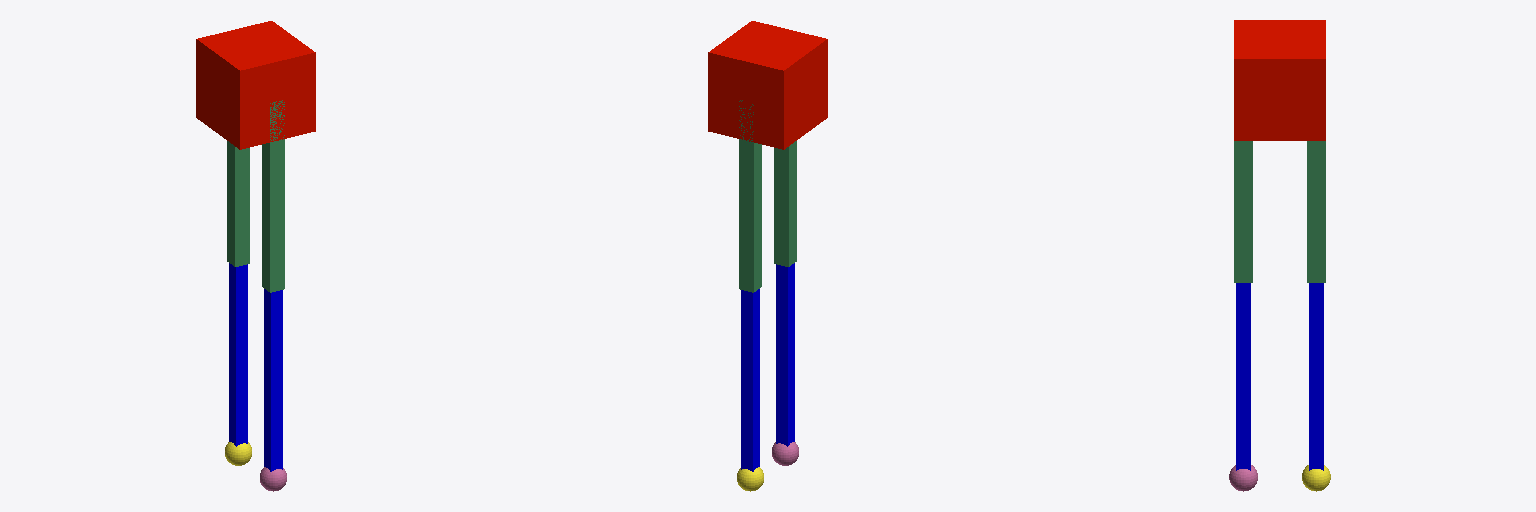
URDF robot description (MassSpringBiped):
<?xml version="1.0"?>
<robot name="MassSpringBiped">
  <material name="green">
    <color rgba=".3 .6 .4 1" />
  </material>
  <material name="red">
    <color rgba=".9 .1 0 1" />
  </material>
  <material name="blue">
    <color rgba="0 0 1 1" />
  </material>
  <material name="black">
    <color rgba="1 1 1 1" />
  </material>

  <!-- <link name="base"/> -->

  <link name="torso">
    <inertial> 
      <origin xyz="0 0 0" rpy="0 0 0" />
      <mass value="1" />
      <inertia ixx=".01" ixy="0" ixz="0" iyy=".01" iyz="0" izz=".01"/> 
    </inertial>
    <visual>
      <origin xyz="0 0 0"/>
      <geometry>
        <box size="0.125 0.125 0.125" />
      </geometry>
      <material name="red" />
    </visual> 
    <collision>
      <origin xyz="0 0 0"/>
      <geometry>
        <box size="0.125 0.125 0.125" />
      </geometry>
    </collision>
  </link>


  <link name="l_hip">
    <inertial> 
      <origin xyz="0 0 0" rpy="0 0 0" />
      <mass value="0.0001" />
      <inertia ixx=".00001" ixy="0" ixz="0" iyy=".00001" iyz="0" izz=".00001"/> 
    </inertial>
    <visual>
      <origin xyz="0 0 0" rpy="0 0 0" />
      <geometry>
        <box size="0.01 0.01 0.01" />
      </geometry>
      <material name="black" />
    </visual> 
  </link>


  <link name="l_upper_leg">
    <inertial> 
      <origin xyz="0 0 -0.15" rpy="0 0 0" />
      <mass value="0.01" />
      <inertia ixx=".001" ixy="0" ixz="0" iyy=".001" iyz="0" izz=".001"/> 
    </inertial>
    <visual>
      <origin xyz="0 0 -0.15" rpy="0 0 0" />
      <geometry>
        <box size="0.025 0.025 0.3" />
      </geometry>
      <material name="green" />
    </visual> 
  </link>


  <link name="l_lower_leg">
    <inertial> 
      <origin xyz="0 0 -0.15" rpy="0 0 0" />
      <mass value="0.01" />
      <inertia ixx=".001" ixy="0" ixz="0" iyy=".001" iyz="0" izz=".001"/> 
    </inertial>
    <visual>
      <origin xyz="0 0 -0.15" rpy="0 0 0" />
      <geometry>
        <box size="0.02 0.02 0.3" />
      </geometry>
      <material name="blue" />
    </visual> 
    <collision group="foot">
      <origin rpy="0 0 0" xyz="0 0 -0.30"/>
      <geometry>
        <sphere radius="0.0"/>
      </geometry>
    </collision>
    <visual group="foot">
      <origin rpy="0 0 0" xyz="0 0 -0.30"/>
      <geometry>
        <sphere radius="0.02"/>
      </geometry>
    </visual>
  </link>


  <link name="r_hip">
    <inertial> 
      <origin xyz="0 0 0" rpy="0 0 0" />
      <mass value="0.0001" />
      <inertia ixx=".00001" ixy="0" ixz="0" iyy=".00001" iyz="0" izz=".00001"/> 
    </inertial>
    <visual>
      <origin xyz="0 0 0" rpy="0 0 0" />
      <geometry>
        <box size="0.01 0.01 0.01" />
      </geometry>
      <material name="black" />
    </visual> 
  </link>

  <link name="r_upper_leg">
    <inertial> 
      <origin xyz="0 0 -0.15" rpy="0 0 0" />
      <mass value="0.01" />
      <inertia ixx=".001" ixy="0" ixz="0" iyy=".001" iyz="0" izz=".001"/> 
    </inertial>
    <visual>
      <origin xyz="0 0 -0.15" rpy="0 0 0" />
      <geometry>
        <box size="0.025 0.025 0.3" />
      </geometry>
      <material name="green" />
    </visual> 
  </link>


  <link name="r_lower_leg">
    <inertial> 
      <origin xyz="0 0 -0.15" rpy="0 0 0" />
      <mass value="0.01" />
      <inertia ixx=".001" ixy="0" ixz="0" iyy=".001" iyz="0" izz=".001"/> 
    </inertial>
    <visual>
      <origin xyz="0 0 -0.15" rpy="0 0 0" />
      <geometry>
        <box size="0.02 0.02 0.3" />
      </geometry>
      <material name="blue" />
    </visual> 
    <collision group="foot">
      <origin rpy="0 0 0" xyz="0 0 -0.30"/>
      <geometry>
        <sphere radius="0.0"/>
      </geometry>
    </collision>
    <visual group="foot">
      <origin rpy="0 0 0" xyz="0 0 -0.30"/>
      <geometry>
        <sphere radius="0.02"/>
      </geometry>
    </visual>
  </link>


  <joint name="l_hip_x" type="revolute">
    <origin rpy="0 0 0" xyz="0 0.05 0"/>
    <axis xyz="1 0 0"/>
    <parent link="torso"/>
    <child link="l_hip"/>
    <dynamics damping="0.1" friction="0"/>
    <limit effort="275" lower="-1.57" upper="1.57" velocity="12"/>
  </joint>
  <joint name="l_hip_y" type="revolute">
    <origin rpy="0 0 0" xyz="0 0 0"/>
    <axis xyz="0 1 0"/>
    <parent link="l_hip"/>
    <child link="l_upper_leg"/>
    <dynamics damping="0.1" friction="0"/>
    <limit effort="275" lower="-1.57" upper="1.57" velocity="12"/>
  </joint>
  <joint name="r_hip_x" type="revolute">
    <origin rpy="0 0 0" xyz="0 -0.05 0"/>
    <axis xyz="1 0 0"/>
    <parent link="torso"/>
    <child link="r_hip"/>
    <dynamics damping="0.1" friction="0"/>
    <limit effort="275" lower="-1.57" upper="1.57" velocity="12"/>
  </joint>
  <joint name="r_hip_y" type="revolute">
    <origin rpy="0 0 0" xyz="0 0 0"/>
    <axis xyz="0 1 0"/>
    <parent link="r_hip"/>
    <child link="r_upper_leg"/>
    <dynamics damping="0.1" friction="0"/>
    <limit effort="275" lower="-1.57" upper="1.57" velocity="12"/>
  </joint>
  <joint name="l_leg_spring_joint" type="prismatic">
    <origin rpy="0 0 0" xyz="0 0 -0.3"/>
    <parent link="l_upper_leg"/>
    <child link="l_lower_leg" />
    <axis xyz="0 0 1" />
    <dynamics damping="0.1" friction="0"/>
    <limit lower="-0.25" upper="0.25"/>
  </joint>
  <joint name="r_leg_spring_joint" type="prismatic">
    <origin rpy="0 0 0" xyz="0 0 -0.3"/>
    <parent link="r_upper_leg"/>
    <child link="r_lower_leg" />
    <axis xyz="0 0 1" />
    <dynamics damping="0.1" friction="0"/>
    <limit lower="-0.25" upper="0.25"/>
  </joint>
  <!-- 
  <force_element name="l_leg_spring">
    <linear_spring_damper stiffness="100" damping="20">
      <link1 link="l_upper_leg" xyz="0 0 -0.15" />
      <link2 link="l_lower_leg" xyz="0 0 0.15" />
    </linear_spring_damper>
  </force_element>
  <force_element name="r_leg_spring">
    <linear_spring_damper stiffness="100" damping="20">
      <link1 link="r_upper_leg" xyz="0 0 -0.15" />
      <link2 link="r_lower_leg" xyz="0 0 0.15" />
    </linear_spring_damper>
  </force_element>
 -->
  <transmission type="SimpleTransmission" name="l_hip_x_transmission">
    <actuator name="l_hip_x" />
    <joint name="l_hip_x" />
    <mechanicalReduction>1</mechanicalReduction>
  </transmission>
  <transmission type="SimpleTransmission" name="l_hip_y_transmission">
    <actuator name="l_hip_y" />
    <joint name="l_hip_y" />
    <mechanicalReduction>1</mechanicalReduction>
  </transmission>
  <transmission type="SimpleTransmission" name="l_spring_transmission">
    <actuator name="l_spring" />
    <joint name="l_leg_spring_joint" />
    <mechanicalReduction>1</mechanicalReduction>
  </transmission>
  <transmission type="SimpleTransmission" name="r_hip_x_transmission">
    <actuator name="r_hip_x" />
    <joint name="r_hip_x" />
    <mechanicalReduction>1</mechanicalReduction>
  </transmission>
  <transmission type="SimpleTransmission" name="r_hip_y_transmission">
    <actuator name="r_hip_y" />
    <joint name="r_hip_y" />
    <mechanicalReduction>1</mechanicalReduction>
  </transmission>
  <transmission type="SimpleTransmission" name="r_spring_transmission">
    <actuator name="r_spring" />
    <joint name="r_leg_spring_joint" />
    <mechanicalReduction>1</mechanicalReduction>
  </transmission>
</robot>

--- Facts derived from the render (not from the file) ---
3 views of the same robot in one strip: view 1: azimuth 30°, elevation 25°; view 2: azimuth 150°, elevation 25°; view 3: azimuth 270°, elevation 25° (orthographic).
Model MassSpringBiped with 7 links and 6 joints (4 revolute, 2 prismatic), rooted at torso, posed every joint at zero.
Links seen in each view (by area): view 1: torso, l_lower_leg, r_lower_leg, r_upper_leg, l_upper_leg; view 2: torso, r_lower_leg, l_lower_leg, l_upper_leg, r_upper_leg; view 3: torso, l_lower_leg, r_lower_leg, l_upper_leg, r_upper_leg.
Link boxes in pixels (x1,y1,x2,y2): torso: (196, 21, 315, 149); l_lower_leg: (225, 263, 251, 465); r_lower_leg: (260, 289, 286, 491); r_upper_leg: (262, 100, 284, 292); l_upper_leg: (227, 141, 249, 266); torso: (708, 21, 827, 149); r_lower_leg: (772, 263, 798, 465); l_lower_leg: (737, 289, 763, 491); l_upper_leg: (739, 100, 761, 292); r_upper_leg: (774, 141, 796, 266); torso: (1234, 20, 1325, 140); l_lower_leg: (1302, 283, 1330, 491); r_lower_leg: (1229, 283, 1257, 491); l_upper_leg: (1307, 141, 1325, 282); r_upper_leg: (1234, 141, 1252, 282).
Size in the robot's own frame: 0.125 by 0.14 by 0.6825 metres.
Geometry: primitives only (box / cylinder / sphere), no mesh files.